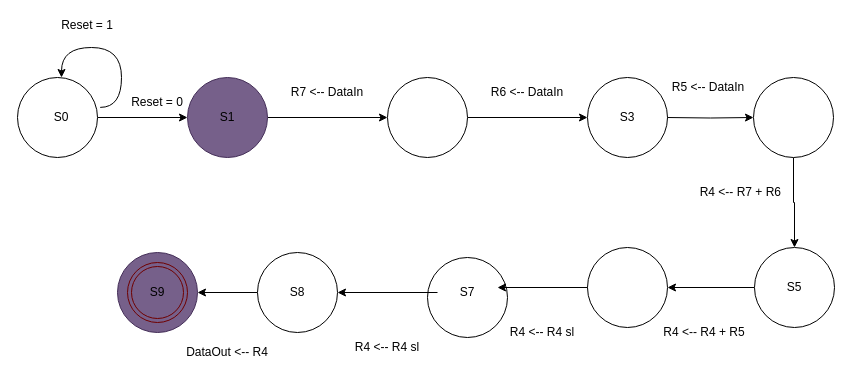
This 852x384 diagram has some shape labels left out. Each missing label, with the centre of its shape:
S2: point 427,117
S4: point 793,117
S6: point 627,287
